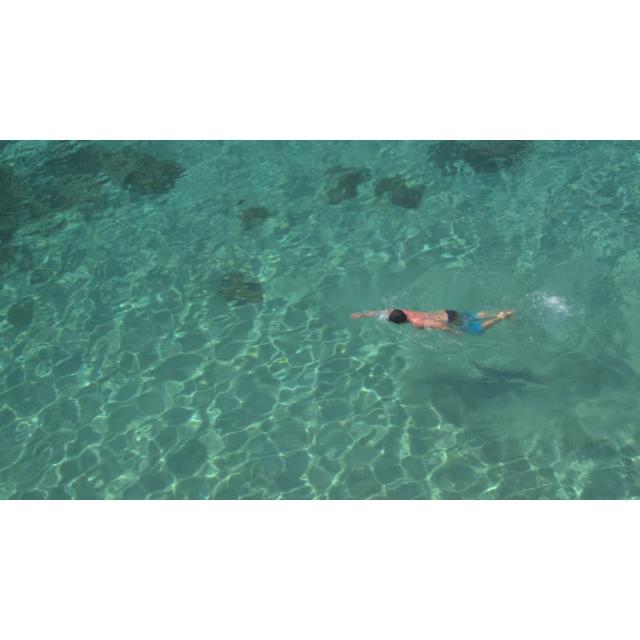human: (350, 305, 513, 338)
